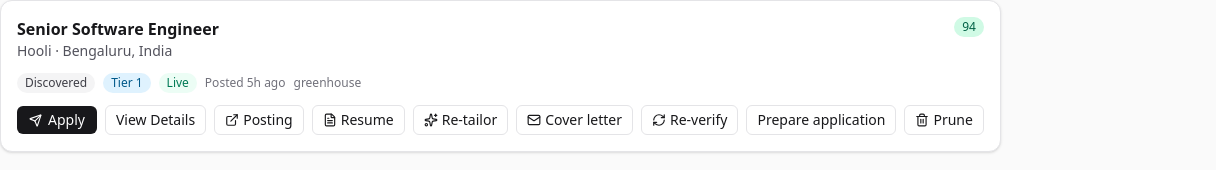
it: Prepare application button › prepares the application and links to the review queue
The width and height of the screenshot is (1216, 170).
Click the button "Prepare application". click: (821, 120)
box: [746,105,896,135]
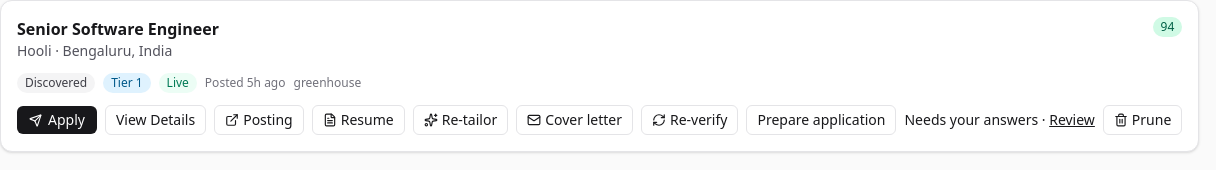
Expected: the text "Needs your answers · Review" is shown, [904,110,1095,130]
